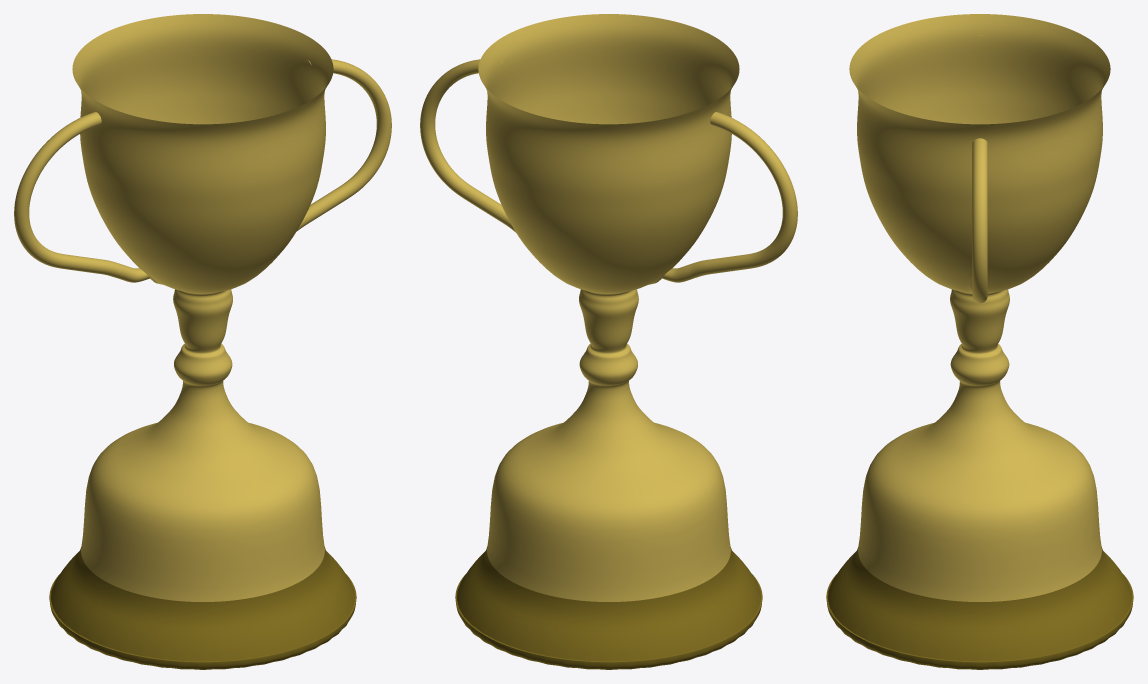
File: Trophy.fbx
3 views of the same model, side by side, from view 1: azimuth 30°, elevation 25°; view 2: azimuth 150°, elevation 25°; view 3: azimuth 270°, elevation 25° (orthographic).
Parts seen in each view (by area): view 1: polySurface1; view 2: polySurface1; view 3: polySurface1.
Part boxes in pixels (bbox=[...]): polySurface1: bbox=[14, 14, 391, 669]; polySurface1: bbox=[420, 14, 797, 669]; polySurface1: bbox=[826, 14, 1133, 669].
Bounding box in the file's own units: 476 × 662 × 337.
